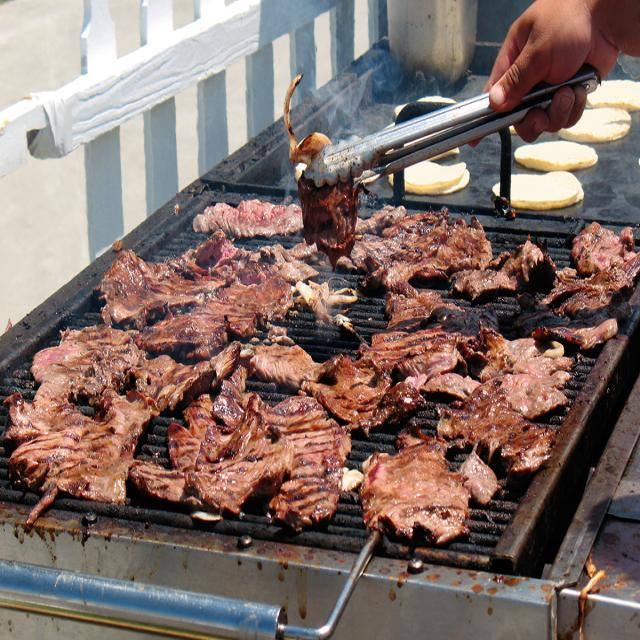carne de res: (177, 396, 343, 532), (103, 245, 260, 361), (360, 438, 470, 554), (368, 318, 461, 407), (567, 224, 631, 310)
